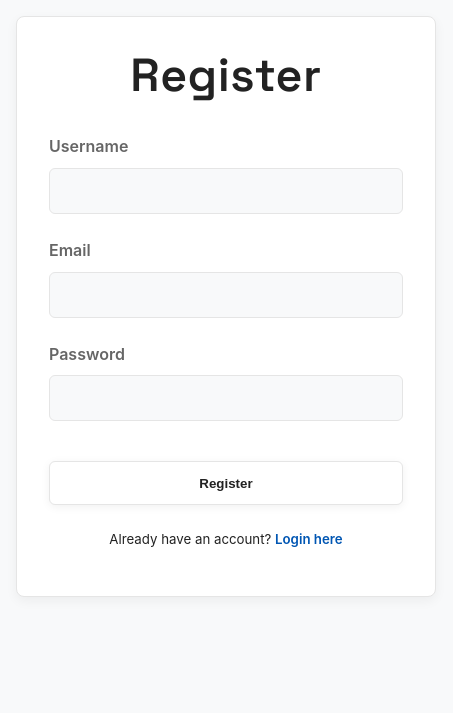
Test case: UserRegisterPage › should show API error on failure
Type "testuser" into the field labelled "Username". click: (226, 191)
box: [49,168,403,214]
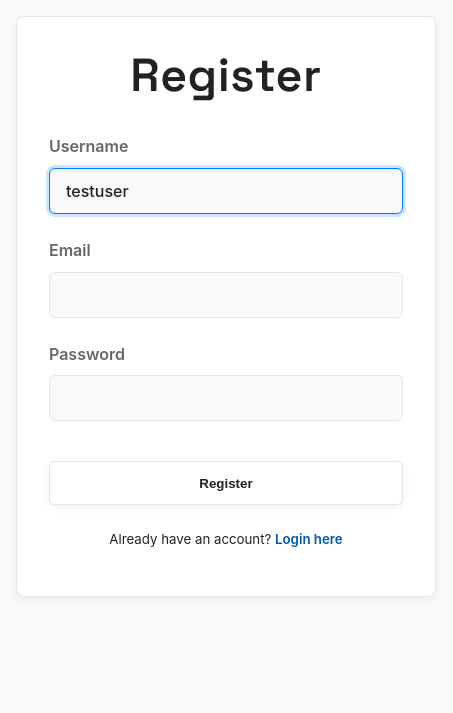
Type "test@example.com" into the field labelled "Email". click: (226, 294)
box: [49,272,403,318]
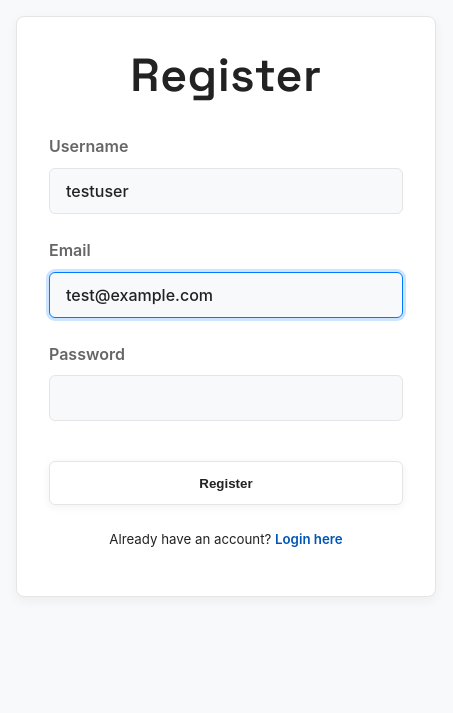
Type "password123" into the password field labelled "Password". click: (226, 398)
box: [49,375,403,421]
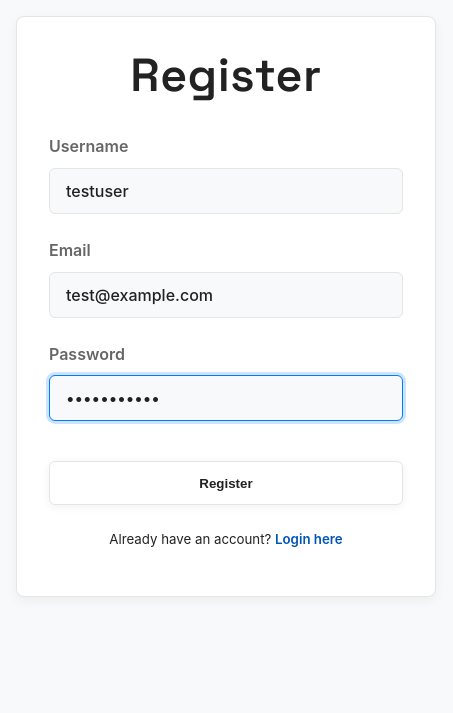
Click the button "Register". click: click(226, 483)
box: [49,461,403,505]
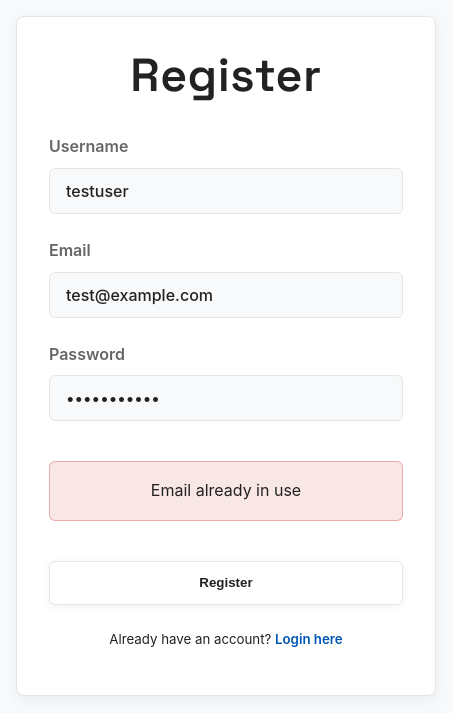
Check: the text "Email already in use" is shown, box [49,461,403,521]
